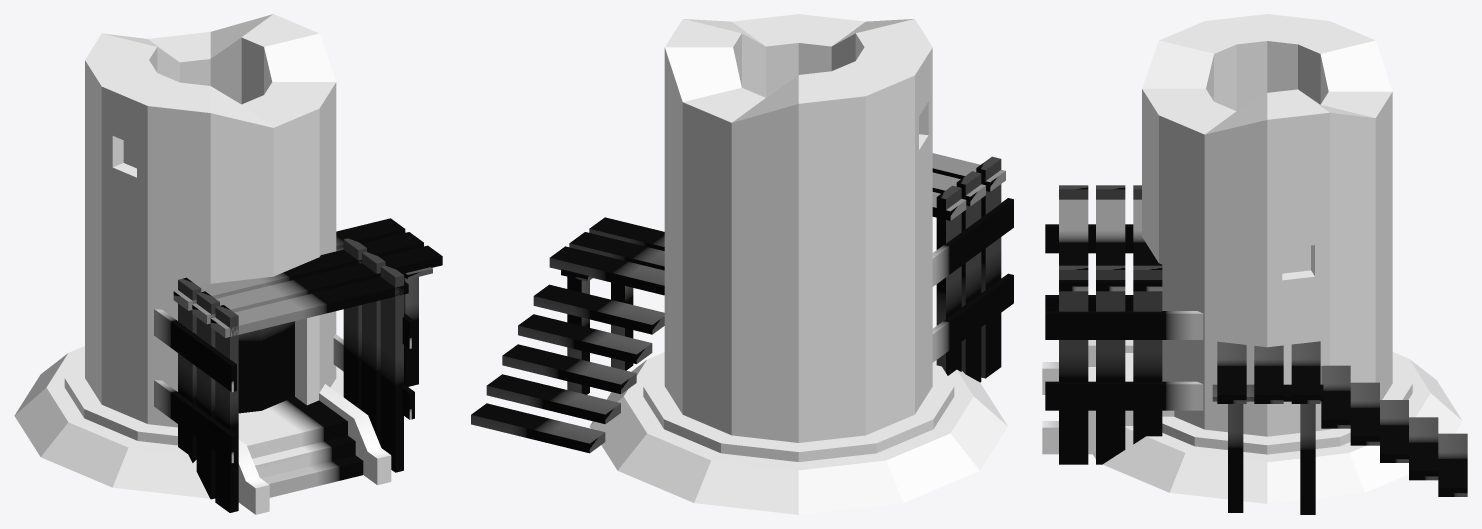
File: TowerPhase01.fbx
3 views of the same model, side by side, from view 1: azimuth 30°, elevation 25°; view 2: azimuth 150°, elevation 25°; view 3: azimuth 270°, elevation 25° (orthographic). The views are drawn at different scales.
Visible parts, largest first — view 1: pCube729; view 2: pCube729; view 3: pCube729.
Boxes of the visible parts, left/top/right/bottom form: pCube729: left=14, top=14, right=442, bottom=514; pCube729: left=471, top=14, right=1013, bottom=514; pCube729: left=1042, top=14, right=1467, bottom=514.
Size of the model in its own units: 2.82 by 2.54 by 2.76.
